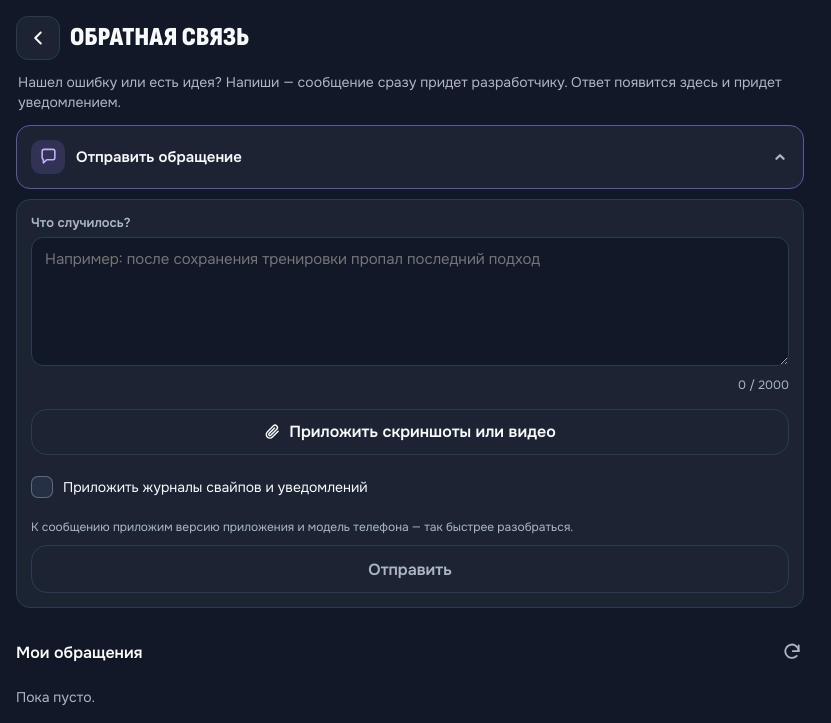
Test: FeedbackScreen › «Обновить список» и возврат в приложение перечитывают обращения (fb_6e2e0d6c)
Expected: the text "Пока пусто." is shown, [16, 688, 95, 706]
Step 1. Click the button named "Обновить список" → click(792, 652), box [770, 630, 814, 674]
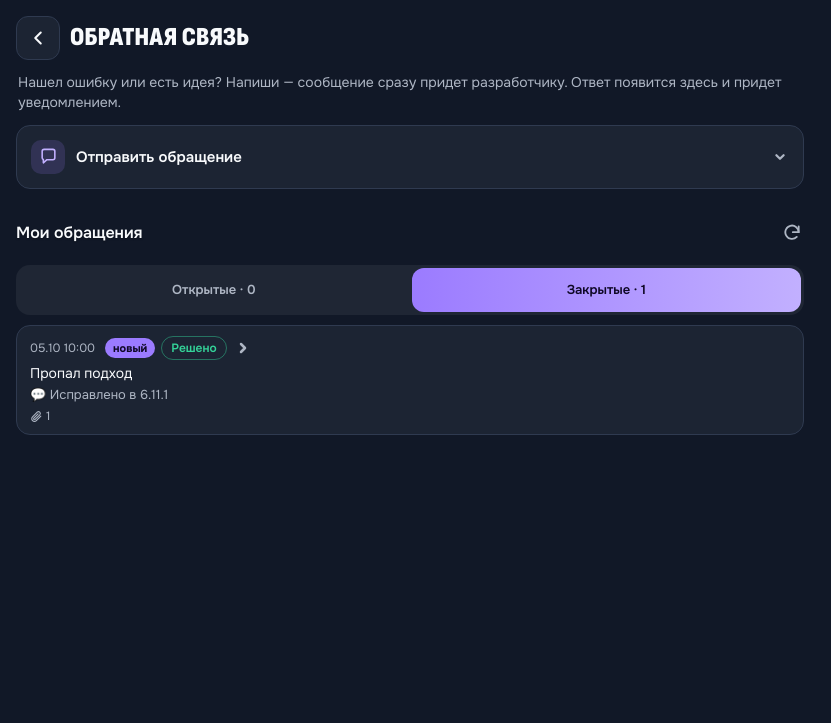
Now the button "Пропал подход" is shown, box [17, 326, 803, 434]
